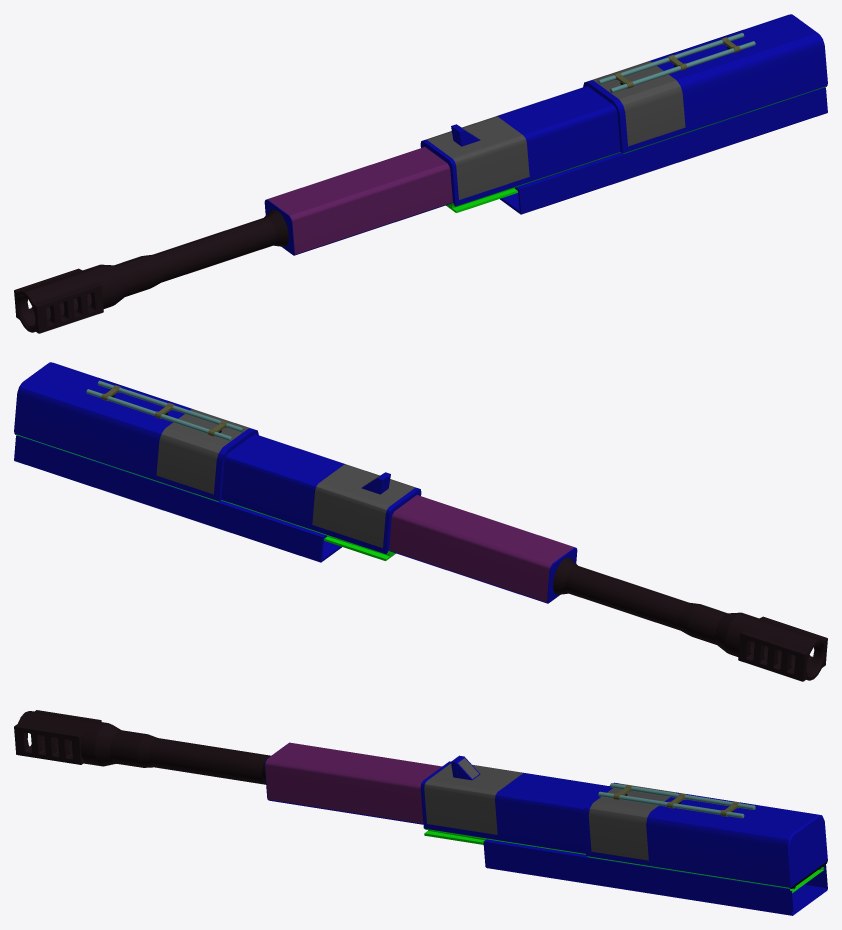
Rendered from ArtilleryBarrel.fbx.
3 views of the same model, one above another, from view 1: azimuth 30°, elevation 25°; view 2: azimuth 150°, elevation 25°; view 3: azimuth 330°, elevation 25° (orthographic).
Visible parts, largest first — view 1: ArtilleryBarrel; view 2: ArtilleryBarrel; view 3: ArtilleryBarrel.
Part boxes in pixels (x1,y1,x2,y2): ArtilleryBarrel: (14, 14, 827, 333); ArtilleryBarrel: (14, 362, 827, 681); ArtilleryBarrel: (14, 710, 827, 915).
Size of the model in its own units: 544 by 43.98 by 78.38.
